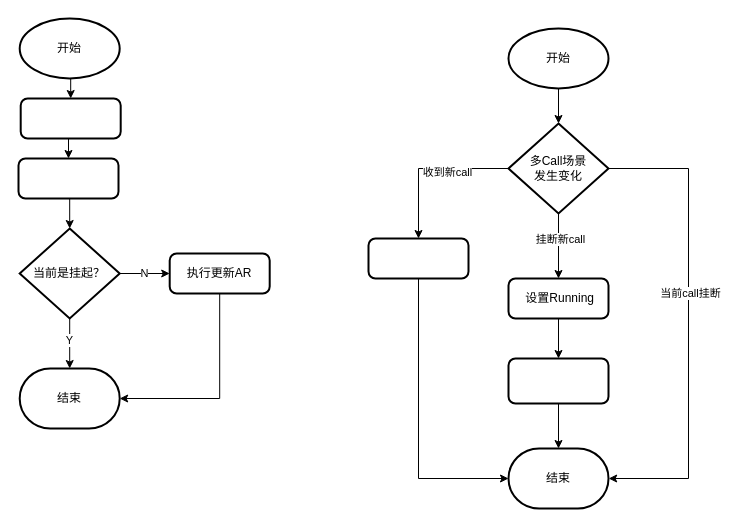
The diagram is 737 pixels wide and 526 high, and some of its shapes have lost their labels. Each missing label, with the centre of its shape:
"根据缓存更新AR" goes at point (558, 380).
"缓存AR设置" goes at point (68, 178).
"设置挂起" goes at point (418, 258).
"调用AR设置接口" goes at point (70, 118).
